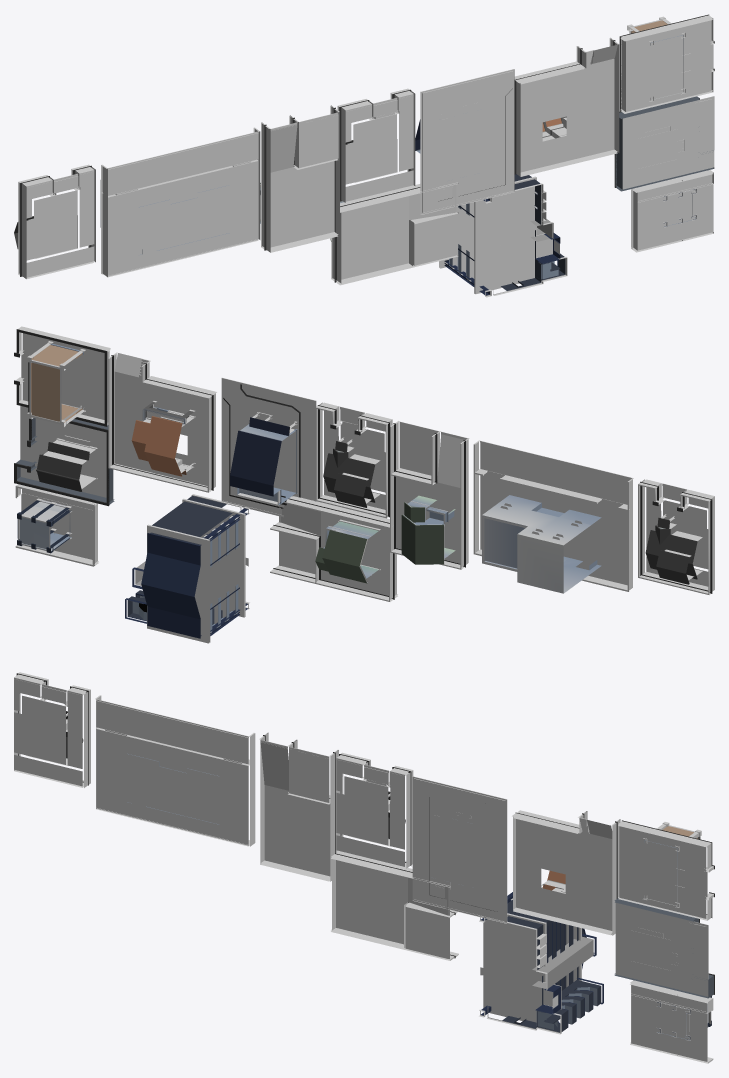
File: SM_000288_merge_w40h102_atlas1_1_2_lv2.fbx
The picture shows the model from 3 angles, top to bottom: view 1: azimuth 30°, elevation 25°; view 2: azimuth 150°, elevation 25°; view 3: azimuth 330°, elevation 25°; orthographic projection.
Visible parts, largest first — view 1: SM_000288.001; view 2: SM_000288.001; view 3: SM_000288.001.
Boxes of the visible parts, x1,y1,x2,y2 form: SM_000288.001: (14, 14, 714, 297); SM_000288.001: (14, 326, 714, 643); SM_000288.001: (14, 672, 714, 1063).
Size of the model in its own units: 127 by 39.68 by 16.92.
